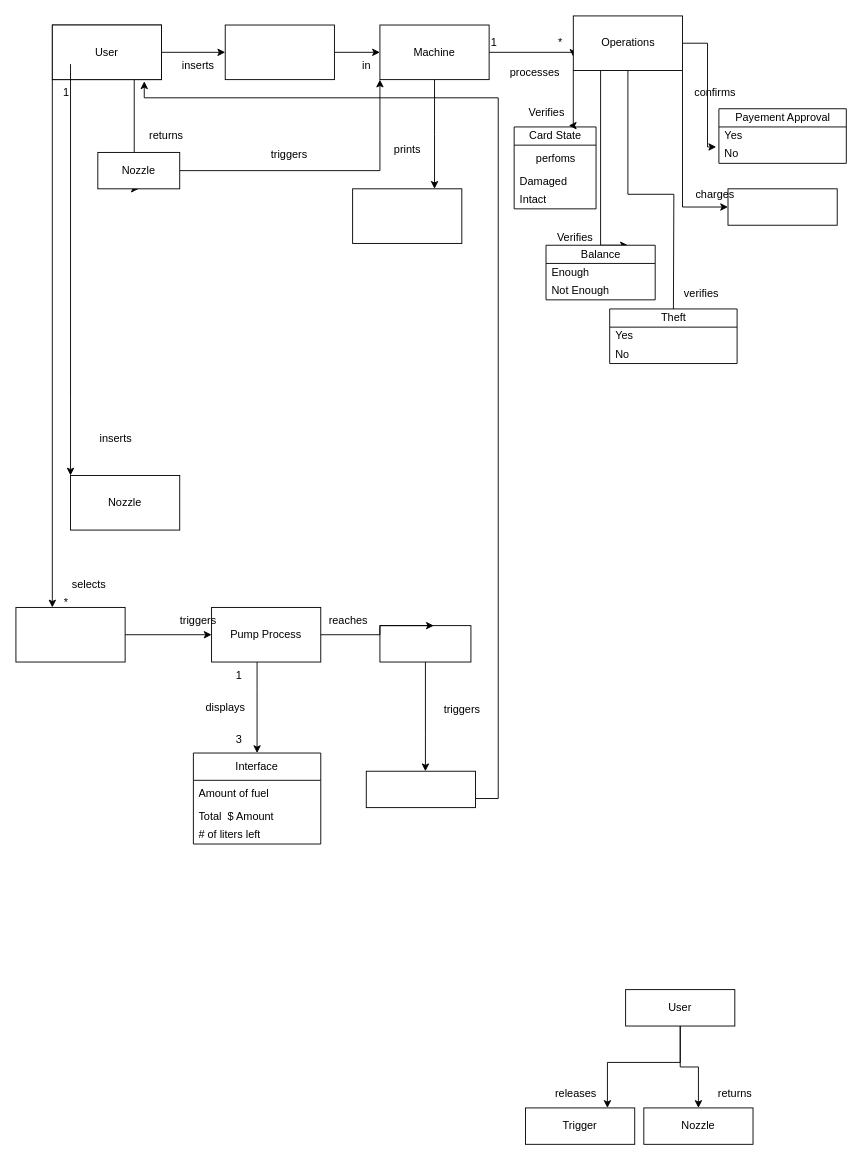
This 863x1160 diagram has some shape labels left out. Here are the shapes that lost their labels. From the top down, the centre of each, then its label:
At pixel 279 52: "Credit Card".
At pixel 407 215: "Receipt".
At pixel 782 206: "Payements".
At pixel 70 634: "Fuel Grades".
At pixel 425 643: "Total".
At pixel 420 789: "Halt".
